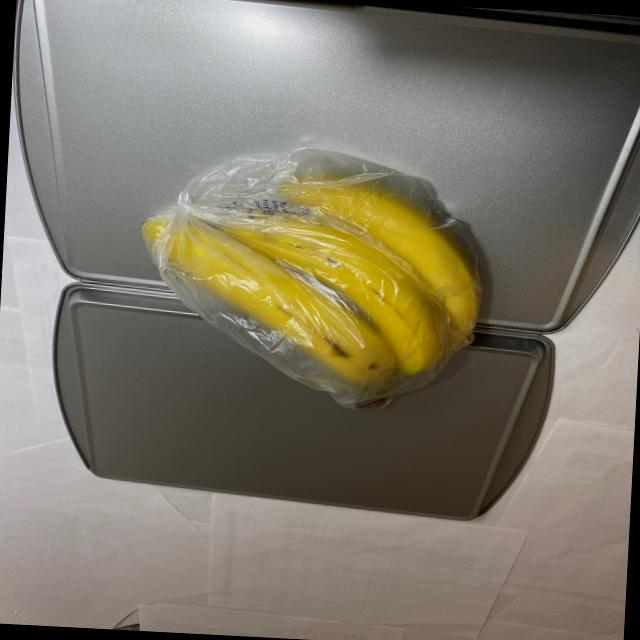banana: (124, 149, 495, 416)
